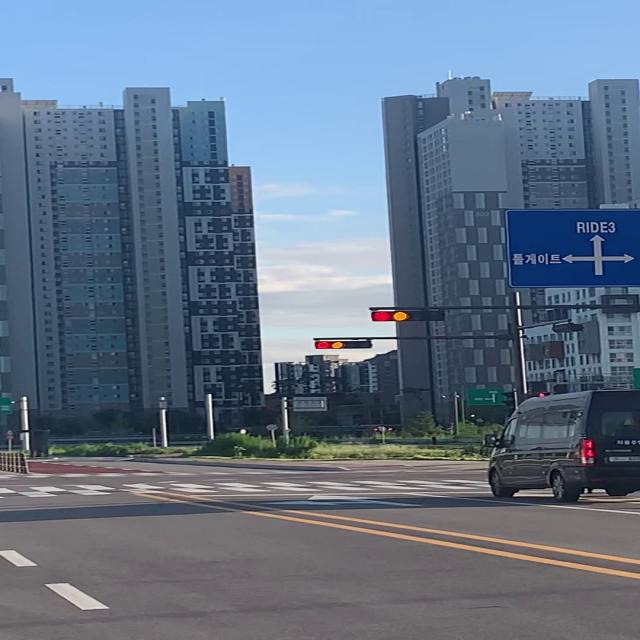yellow_light: (371, 310, 445, 322), (315, 341, 373, 348)
